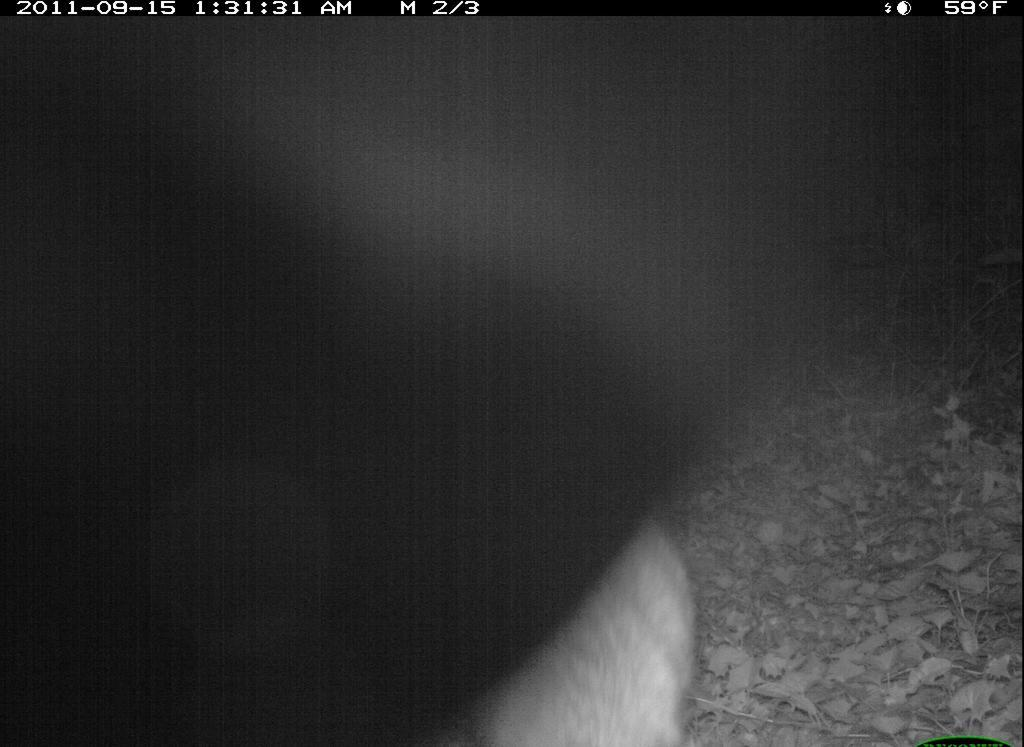coyote: (470, 496, 726, 747)
